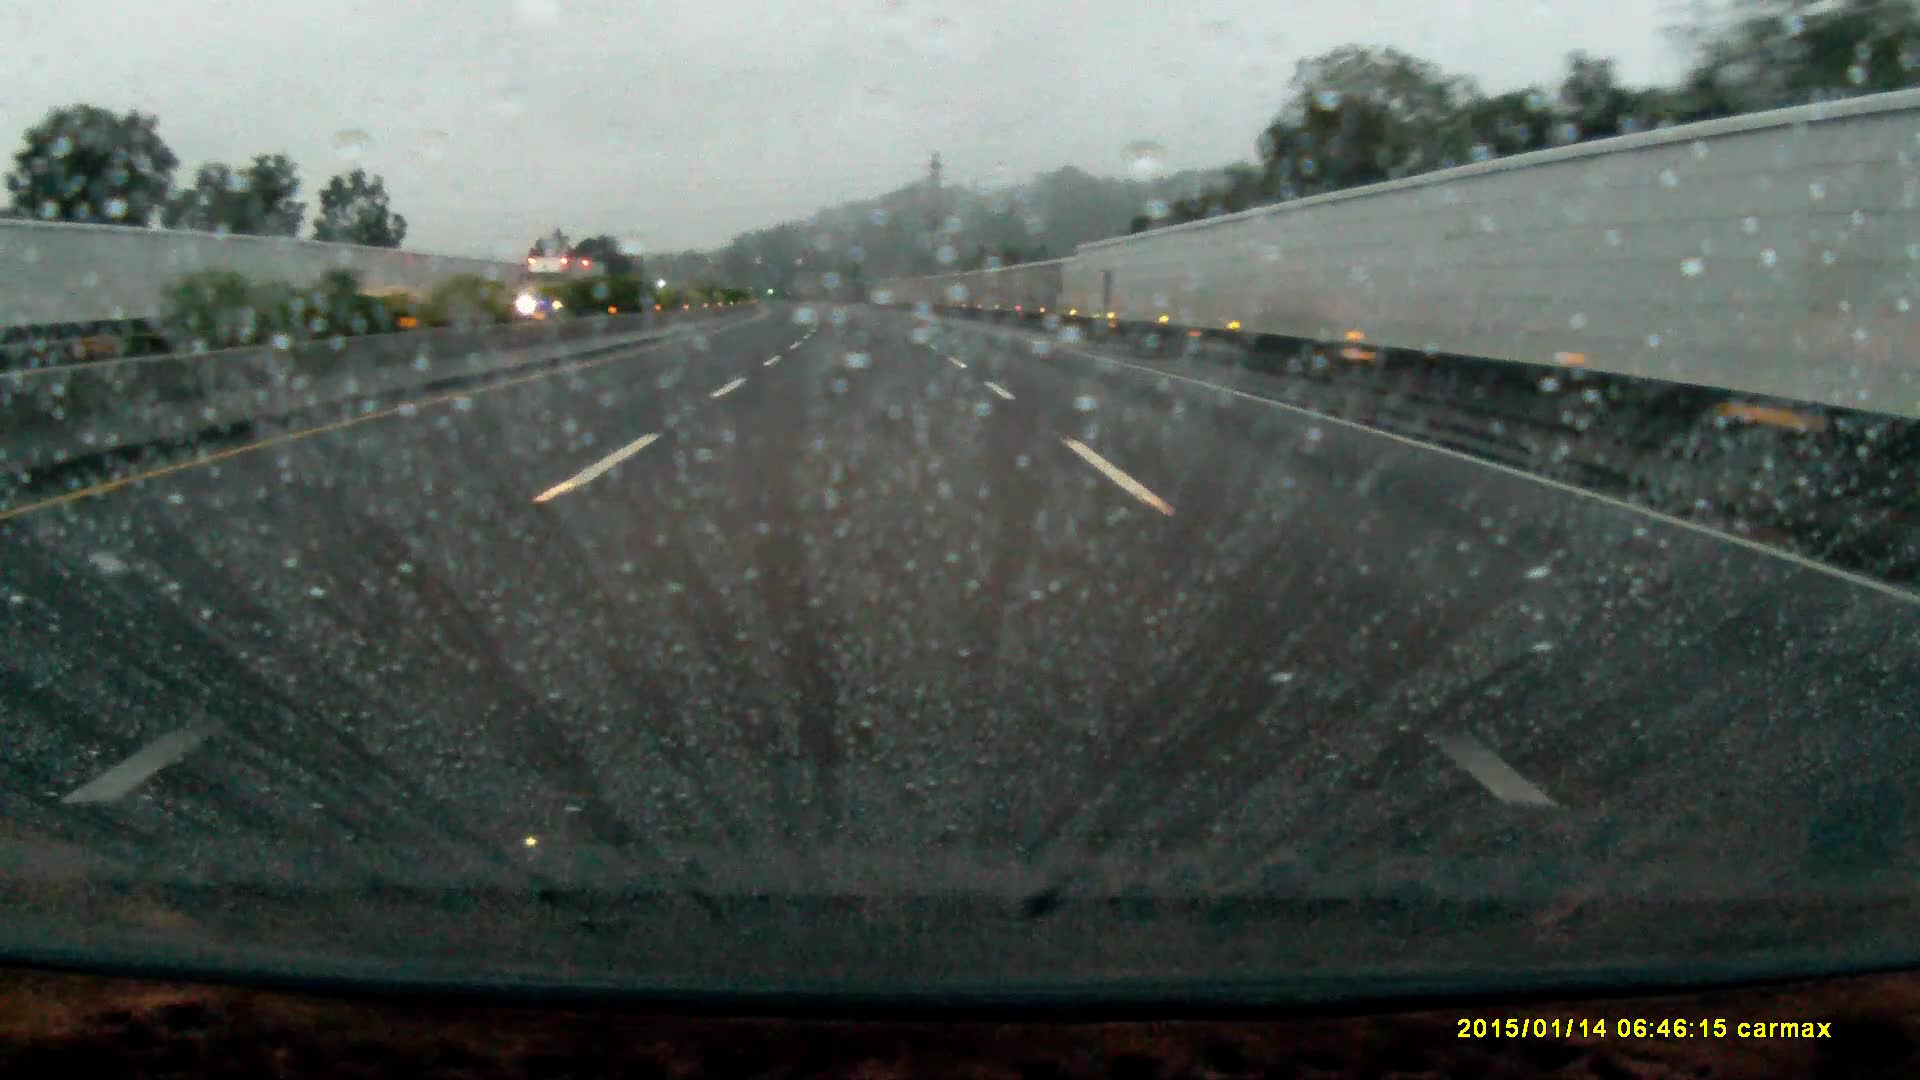vehicle: (520, 255, 605, 313)
